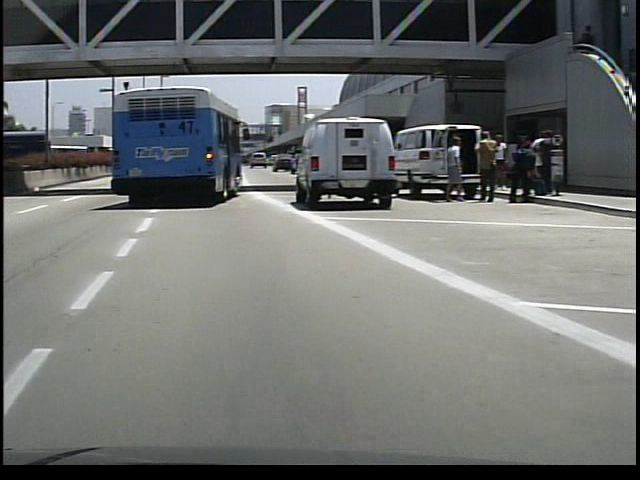person: (471, 129, 497, 206), (439, 133, 463, 204)
